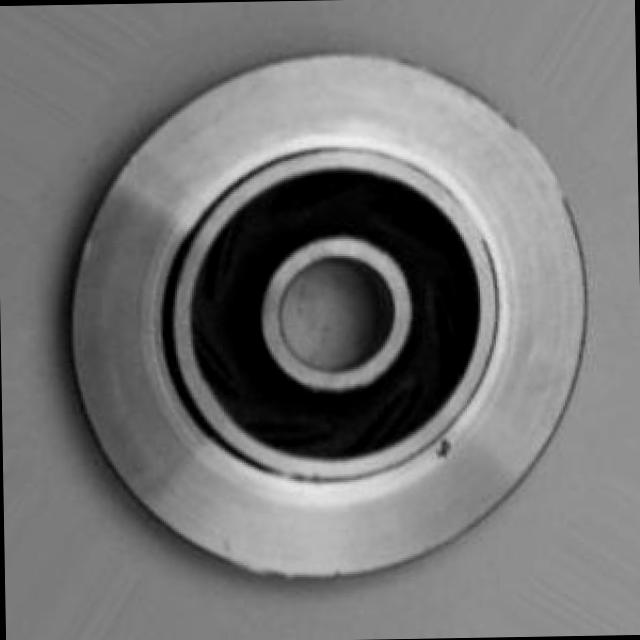Defect: (430, 435, 460, 460)
